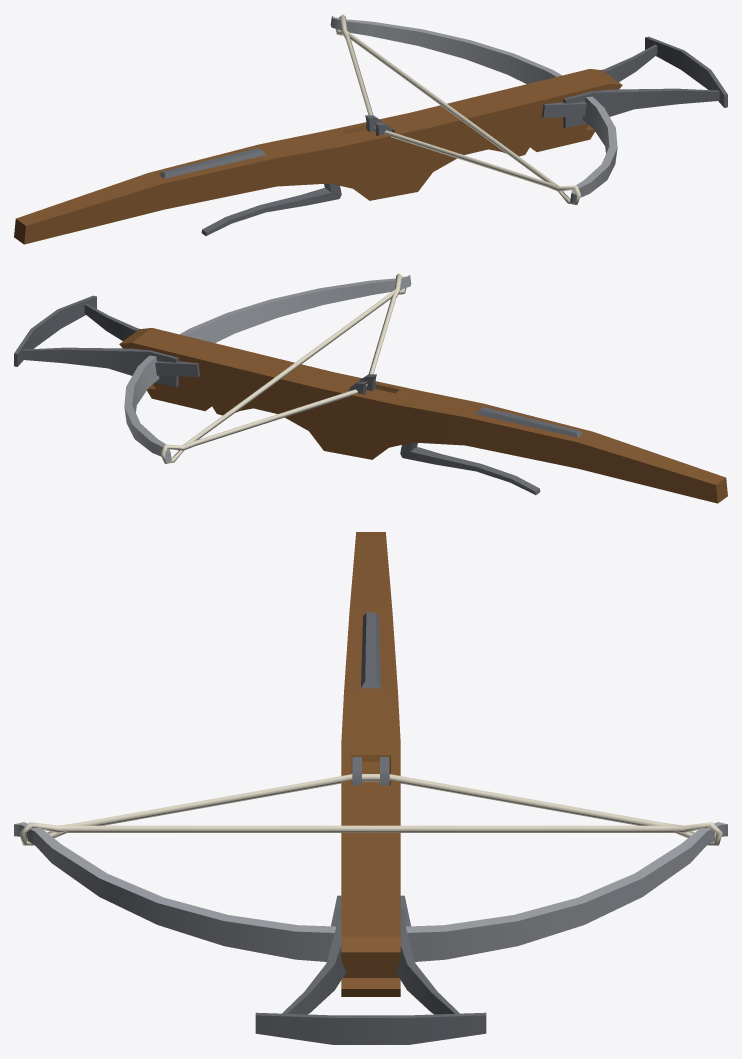
Rendered from kuse.glb.
The picture shows the model from 3 angles, top to bottom: view 1: azimuth 30°, elevation 25°; view 2: azimuth 150°, elevation 25°; view 3: azimuth 270°, elevation 25°; orthographic projection. The views are drawn at different scales.
Visible parts, largest first — view 1: natazeno, vystreleno; view 2: natazeno, vystreleno; view 3: natazeno, vystreleno.
Part boxes in pixels (x1,y1,x2,y2): natazeno: (14, 14, 727, 244); vystreleno: (345, 29, 559, 186); natazeno: (14, 273, 727, 503); vystreleno: (182, 288, 396, 445); natazeno: (14, 532, 727, 1044); vystreleno: (58, 825, 683, 832).
Size of the model in its own units: 1.18 by 0.1224 by 0.7398.
